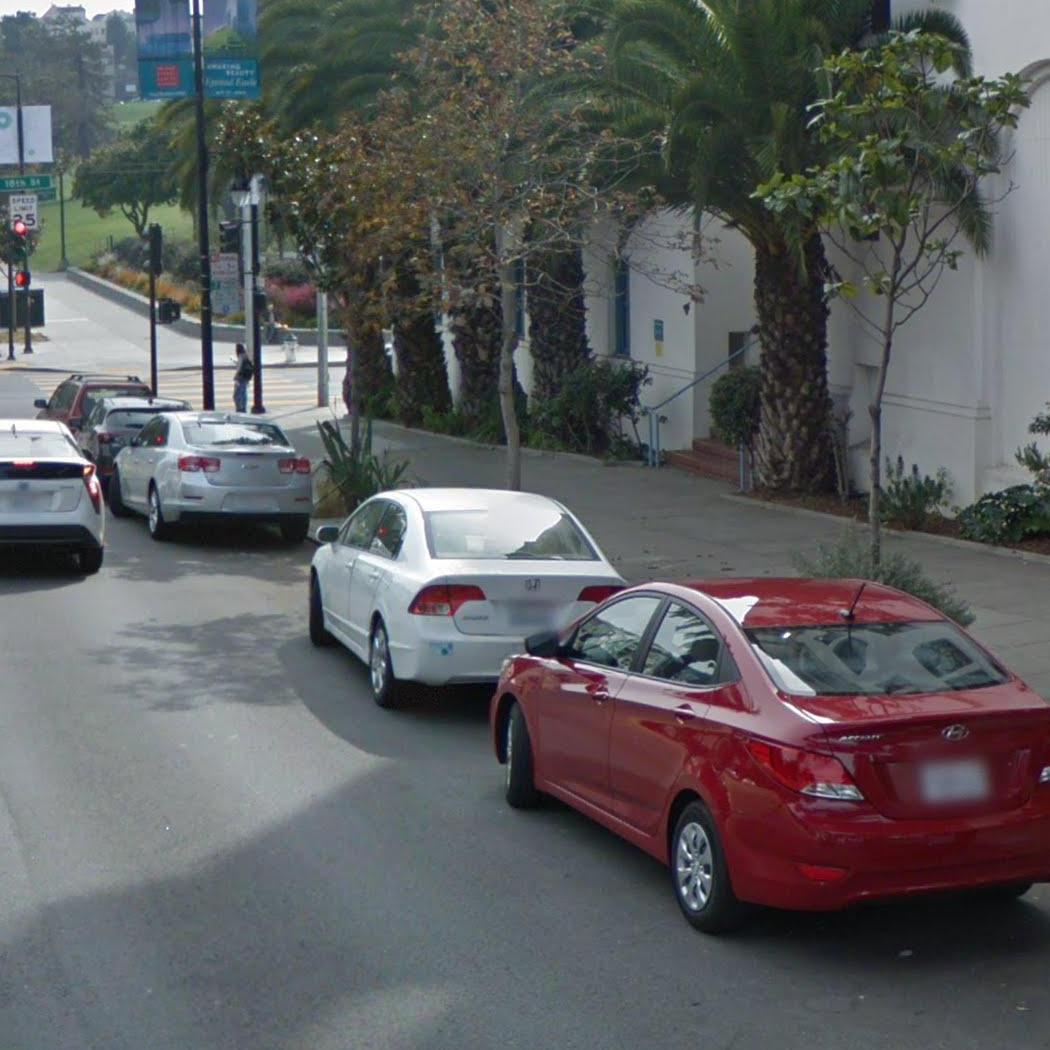2 Hour Parking: (209, 278, 243, 316)
No Parking: (209, 251, 240, 285)
